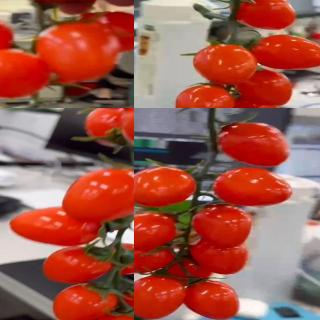tomato: (35, 21, 122, 84), (63, 168, 134, 225), (10, 207, 104, 248), (41, 246, 115, 286), (193, 44, 257, 86), (53, 281, 120, 320), (72, 10, 134, 52), (249, 34, 320, 70), (0, 49, 50, 98), (236, 68, 295, 106), (229, 0, 297, 30), (83, 108, 130, 147), (173, 84, 233, 108), (226, 87, 279, 108), (106, 242, 134, 275), (121, 281, 134, 316)
